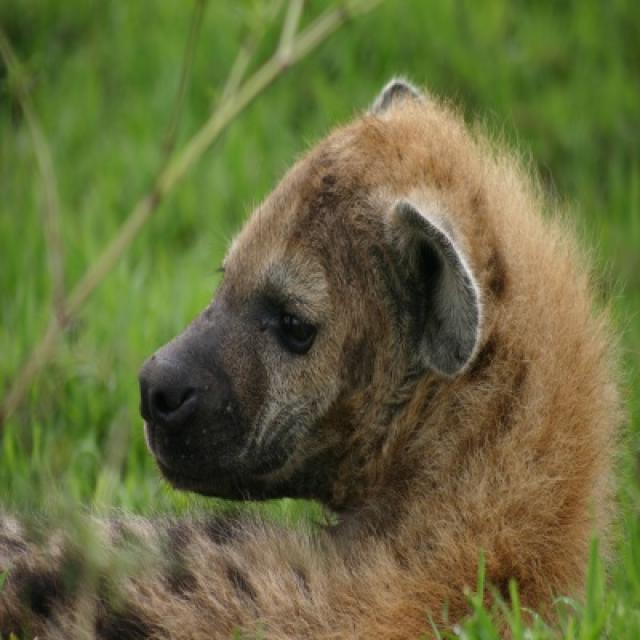hyena: (0, 78, 630, 638)
